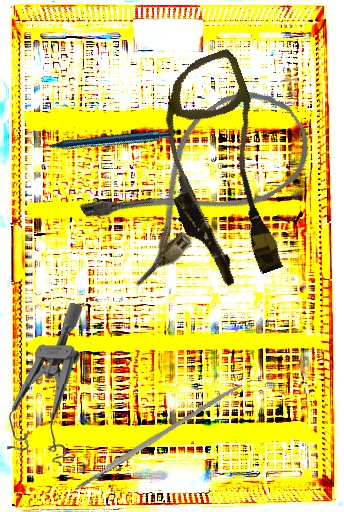Cannula: (75, 70, 326, 290), (131, 46, 309, 295)
Handpiece: (28, 72, 173, 205)
Scalpel Handle: (74, 381, 243, 491)
Speculum: (6, 301, 83, 467)
